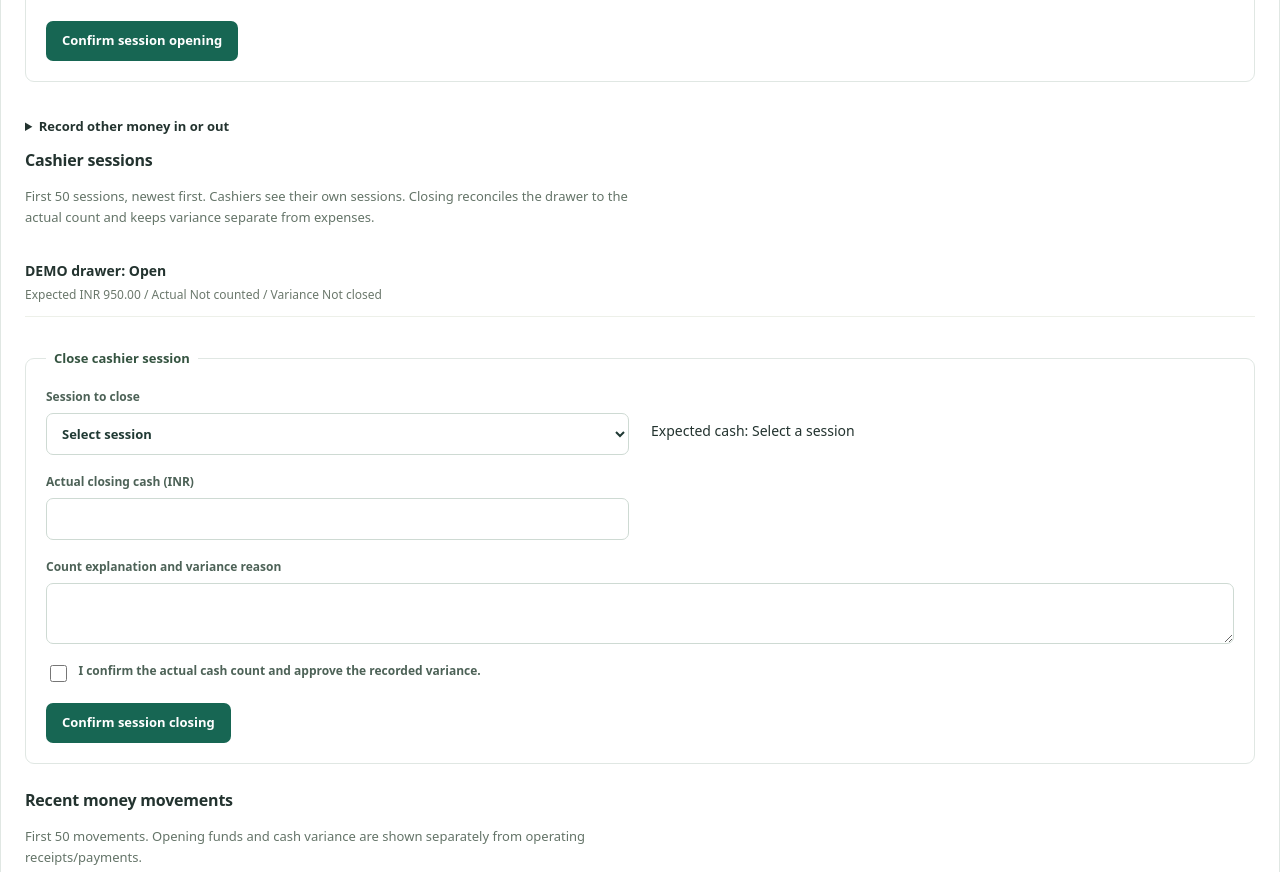
Test: expense and cashier finance flows › closes cash using the recorded expectation and shows variance as a review item
The width and height of the screenshot is (1280, 872).
(page scrolled)
Expected: the button "Confirm session closing" is shown, [46,703,231,743]
Select "DEMO drawer" in the dropdown labelled "Session to close". click: (338, 434)
box: [46,413,629,455]
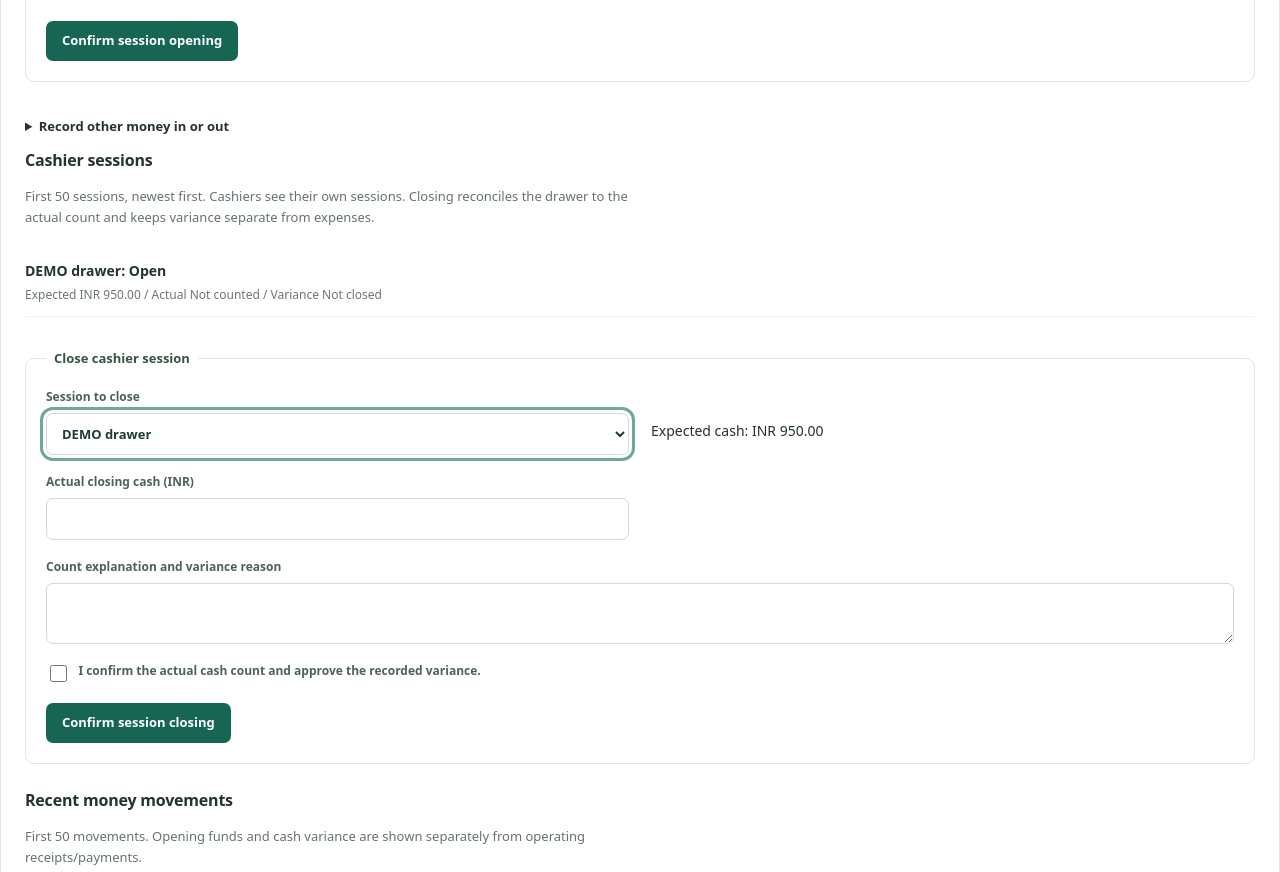
Type "940.00" into the field labelled "Actual closing cash (INR)". click: (338, 519)
box: [46,498,629,540]
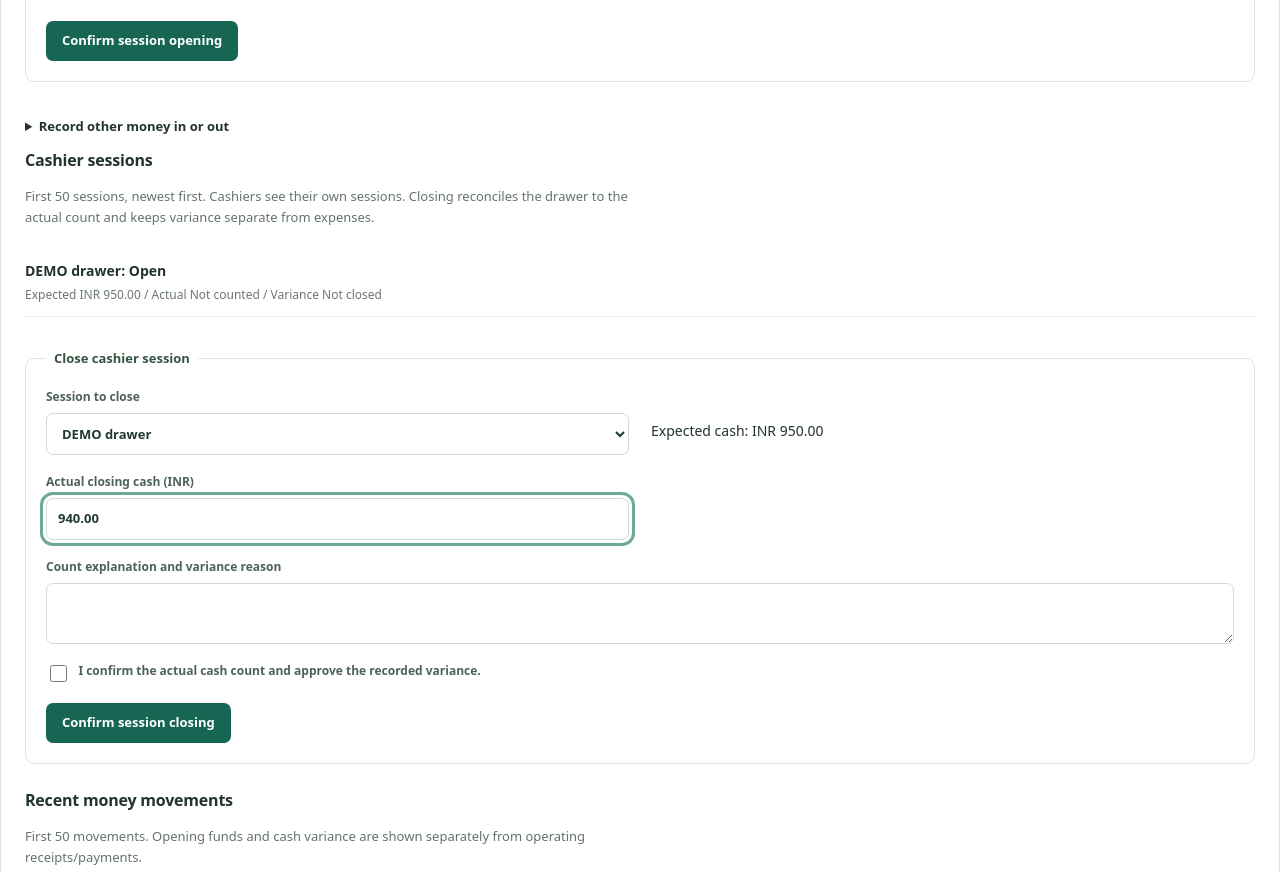
Type "Synthetic shortage for review" into the text box labelled "Count explanation and variance reason". click: (640, 614)
box: [46,583,1234,644]
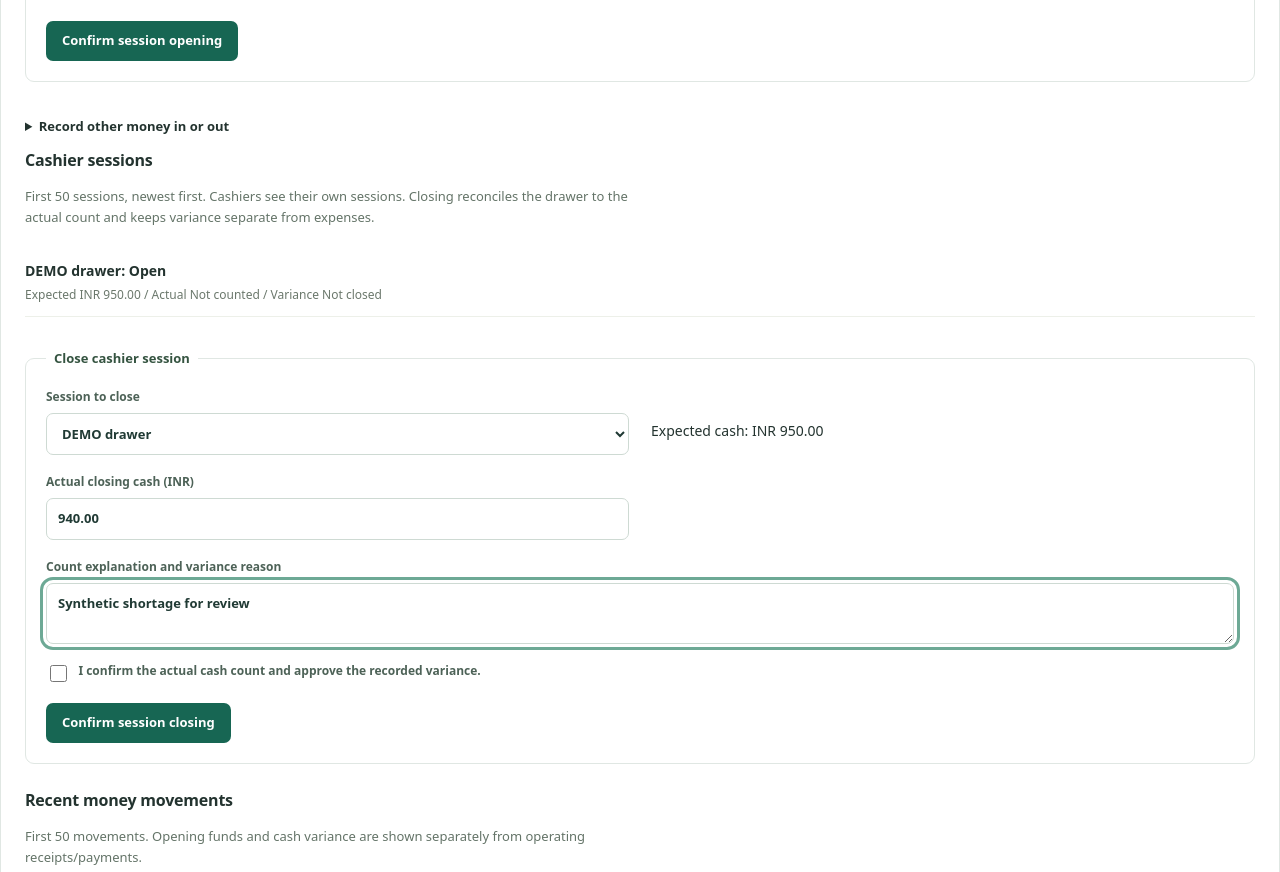
Click the checkbox labelled "I confirm the actual cash count". click: (58, 673)
box: [50,665,67,682]
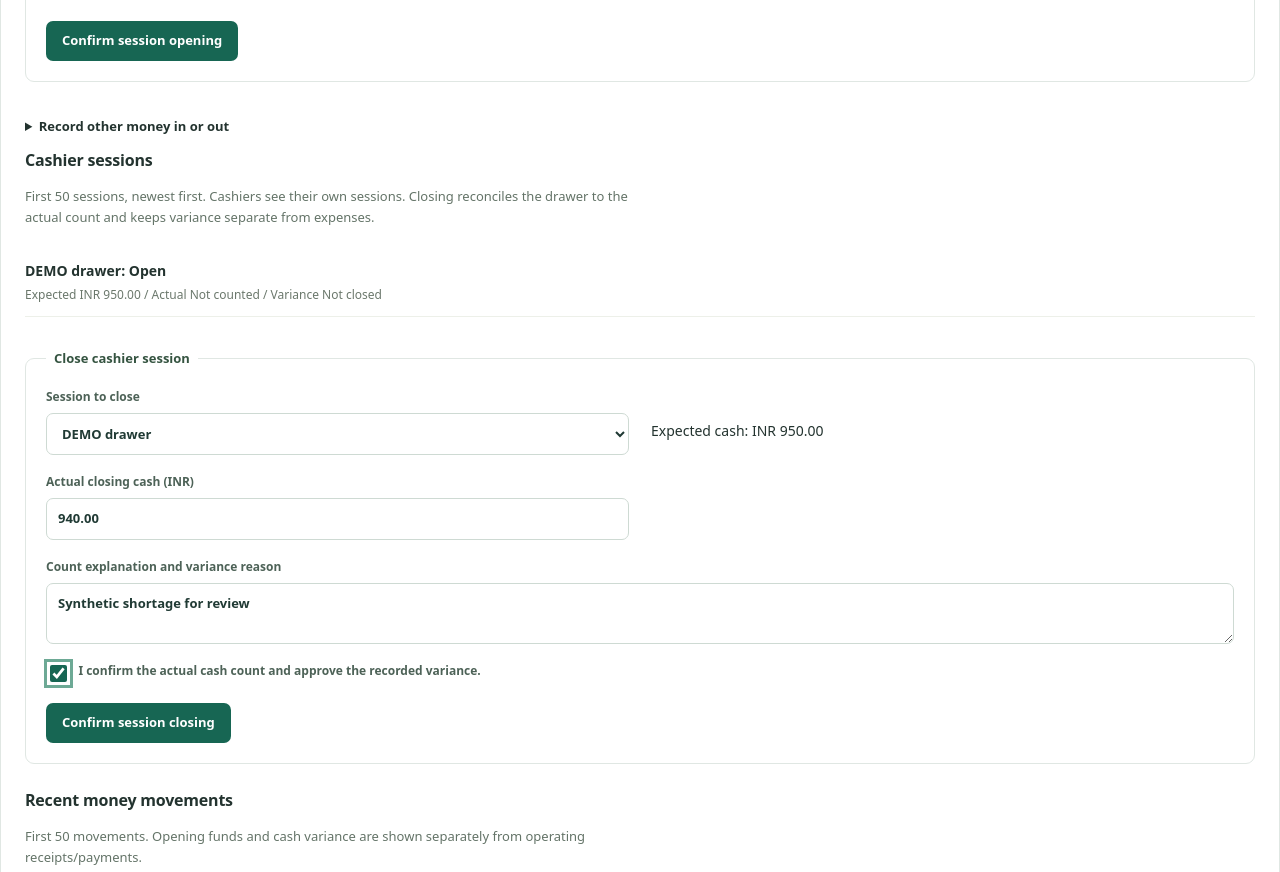
Click the button "Confirm session closing". click: (138, 723)
box: [46,703,231,743]
(page scrolled)
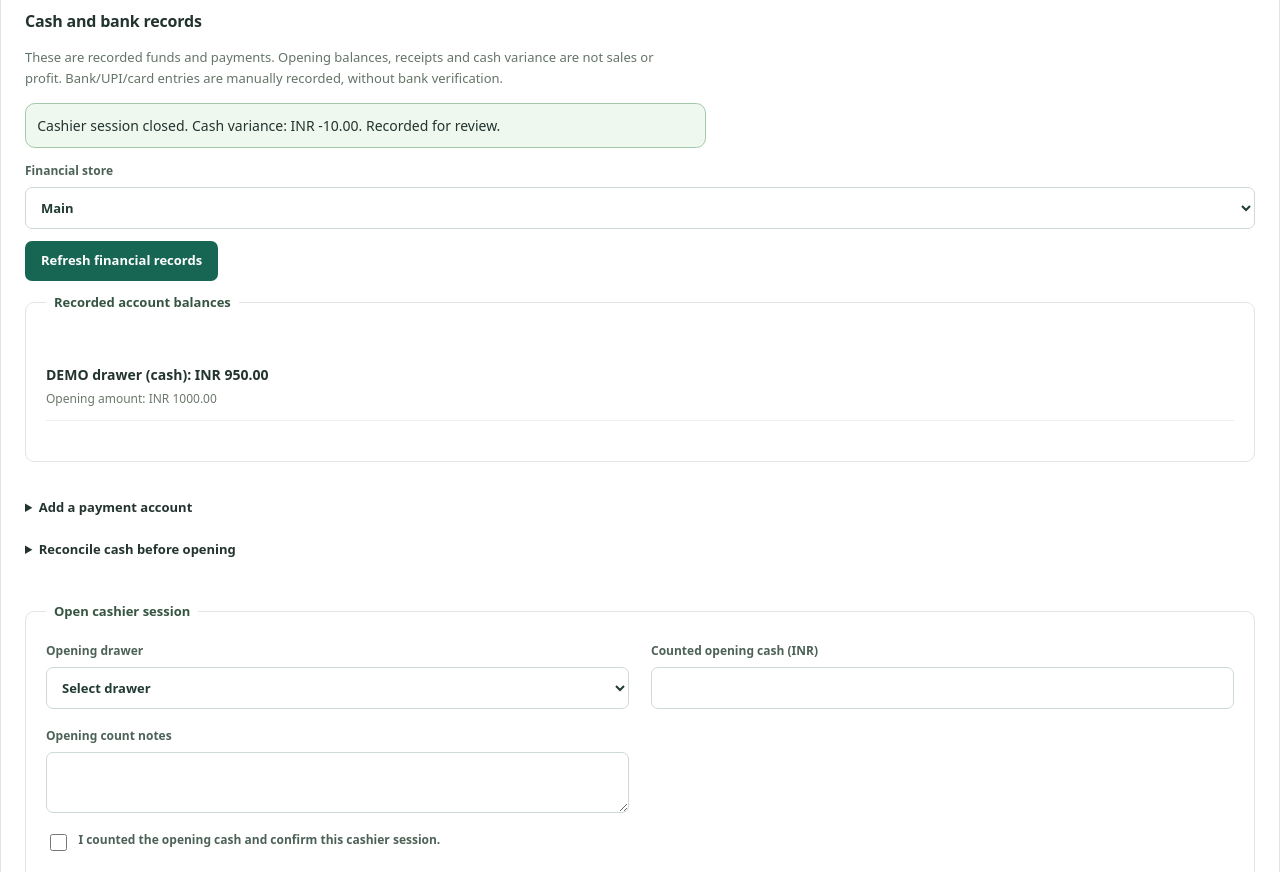
Expected: the message shows "Cash variance: INR -10.00. Recorded for review.", [37,116,500,135]
